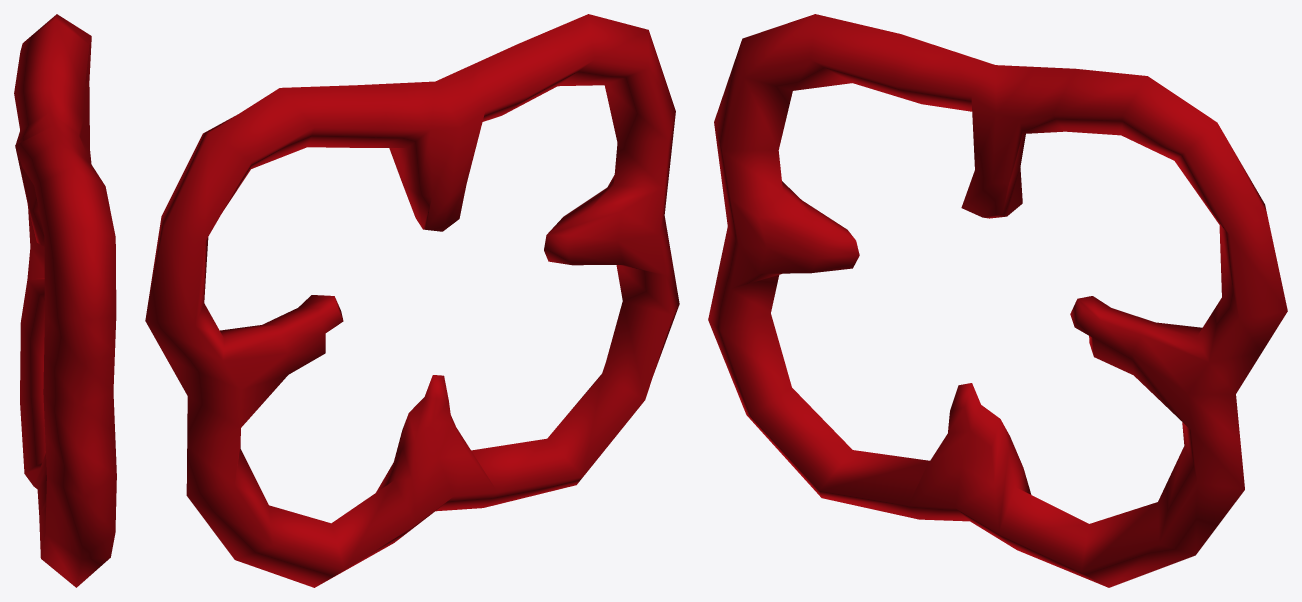
Rendered from pepper_red.fbx.
3 views of the same model, side by side, from view 1: azimuth 30°, elevation 25°; view 2: azimuth 150°, elevation 25°; view 3: azimuth 270°, elevation 25° (orthographic). The views are drawn at different scales.
Visible parts, largest first — view 1: pepper_red; view 2: pepper_red; view 3: pepper_red.
Part boxes in pixels (x1=…): pepper_red: x1=14, y1=14, x2=116, y2=587; pepper_red: x1=145, y1=14, x2=679, y2=587; pepper_red: x1=708, y1=14, x2=1287, y2=587.
Bounding box in the file's own units: 5.06 × 8.66 × 8.76.
